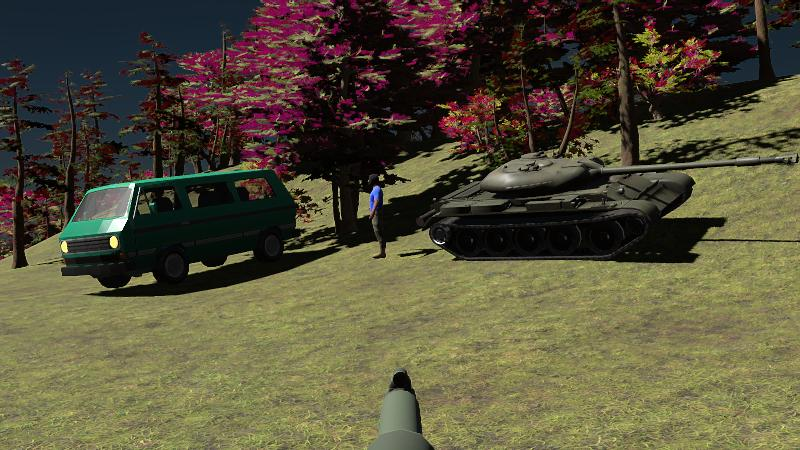Human: (369, 172, 385, 259)
Tank: (424, 152, 797, 262)
car: (60, 170, 297, 291)
